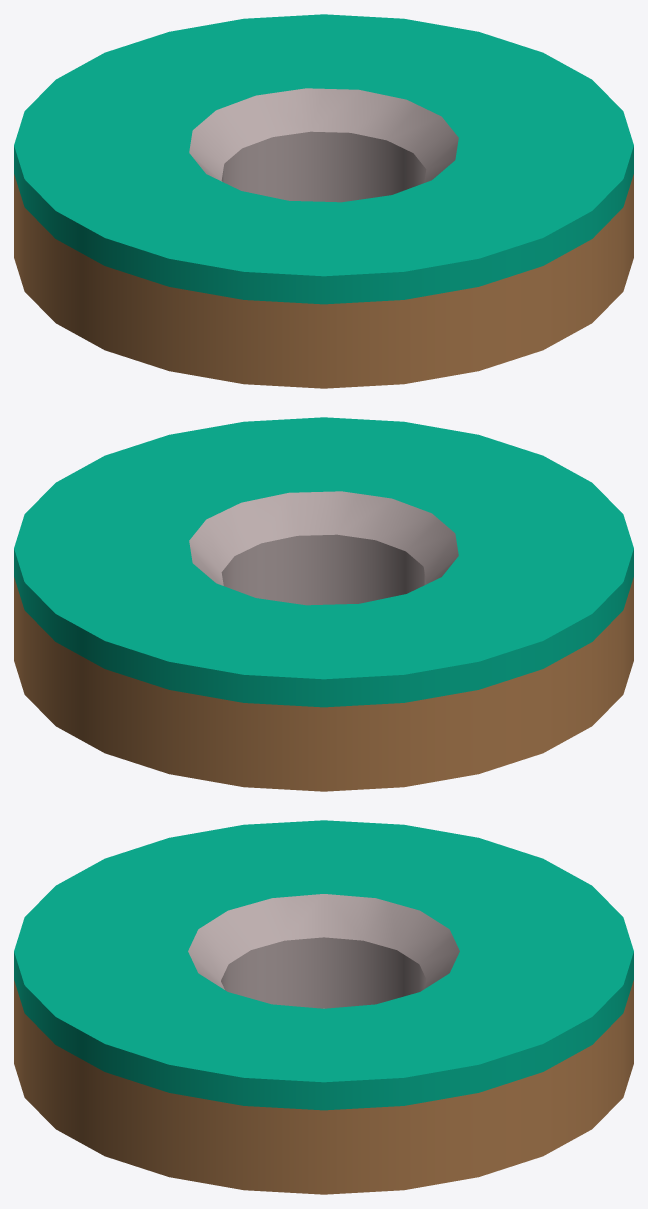
File: hole.fbx
3 renders of one model, top to bottom at view 1: azimuth 30°, elevation 25°; view 2: azimuth 150°, elevation 25°; view 3: azimuth 270°, elevation 25°, orthographic.
Parts seen in each view (by area): view 1: Boole; view 2: Boole; view 3: Boole.
Boxes of the visible parts, x1,y1,x2,y2 form: Boole: (14, 14, 633, 388); Boole: (14, 417, 633, 791); Boole: (14, 820, 633, 1194).
Bounding box in the file's own units: 1000 × 200 × 1000.
